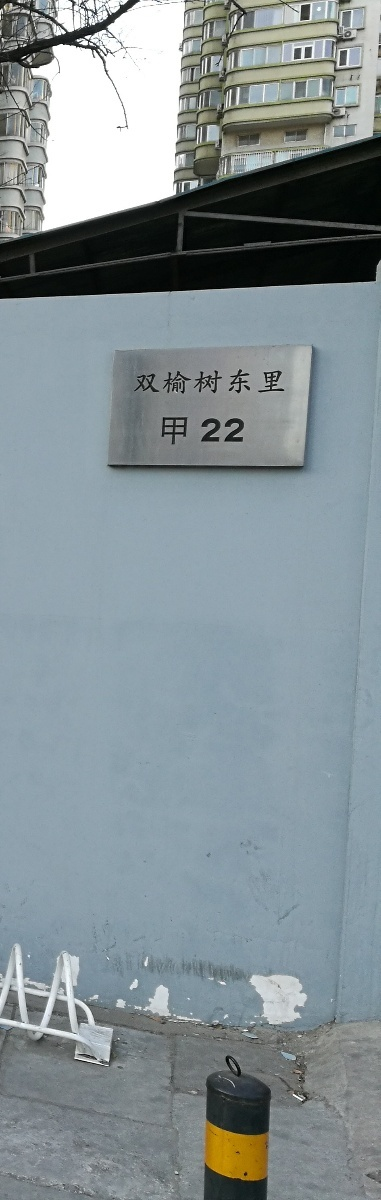text: (161, 416, 176, 446), (209, 417, 224, 445), (225, 417, 240, 445), (145, 369, 160, 396), (161, 369, 176, 396), (177, 369, 192, 396), (193, 369, 208, 396), (209, 369, 224, 396), (225, 369, 240, 396), (241, 369, 256, 396), (257, 369, 272, 396), (177, 416, 190, 446), (273, 369, 287, 396), (133, 369, 144, 396), (200, 417, 208, 445), (241, 417, 248, 445)
